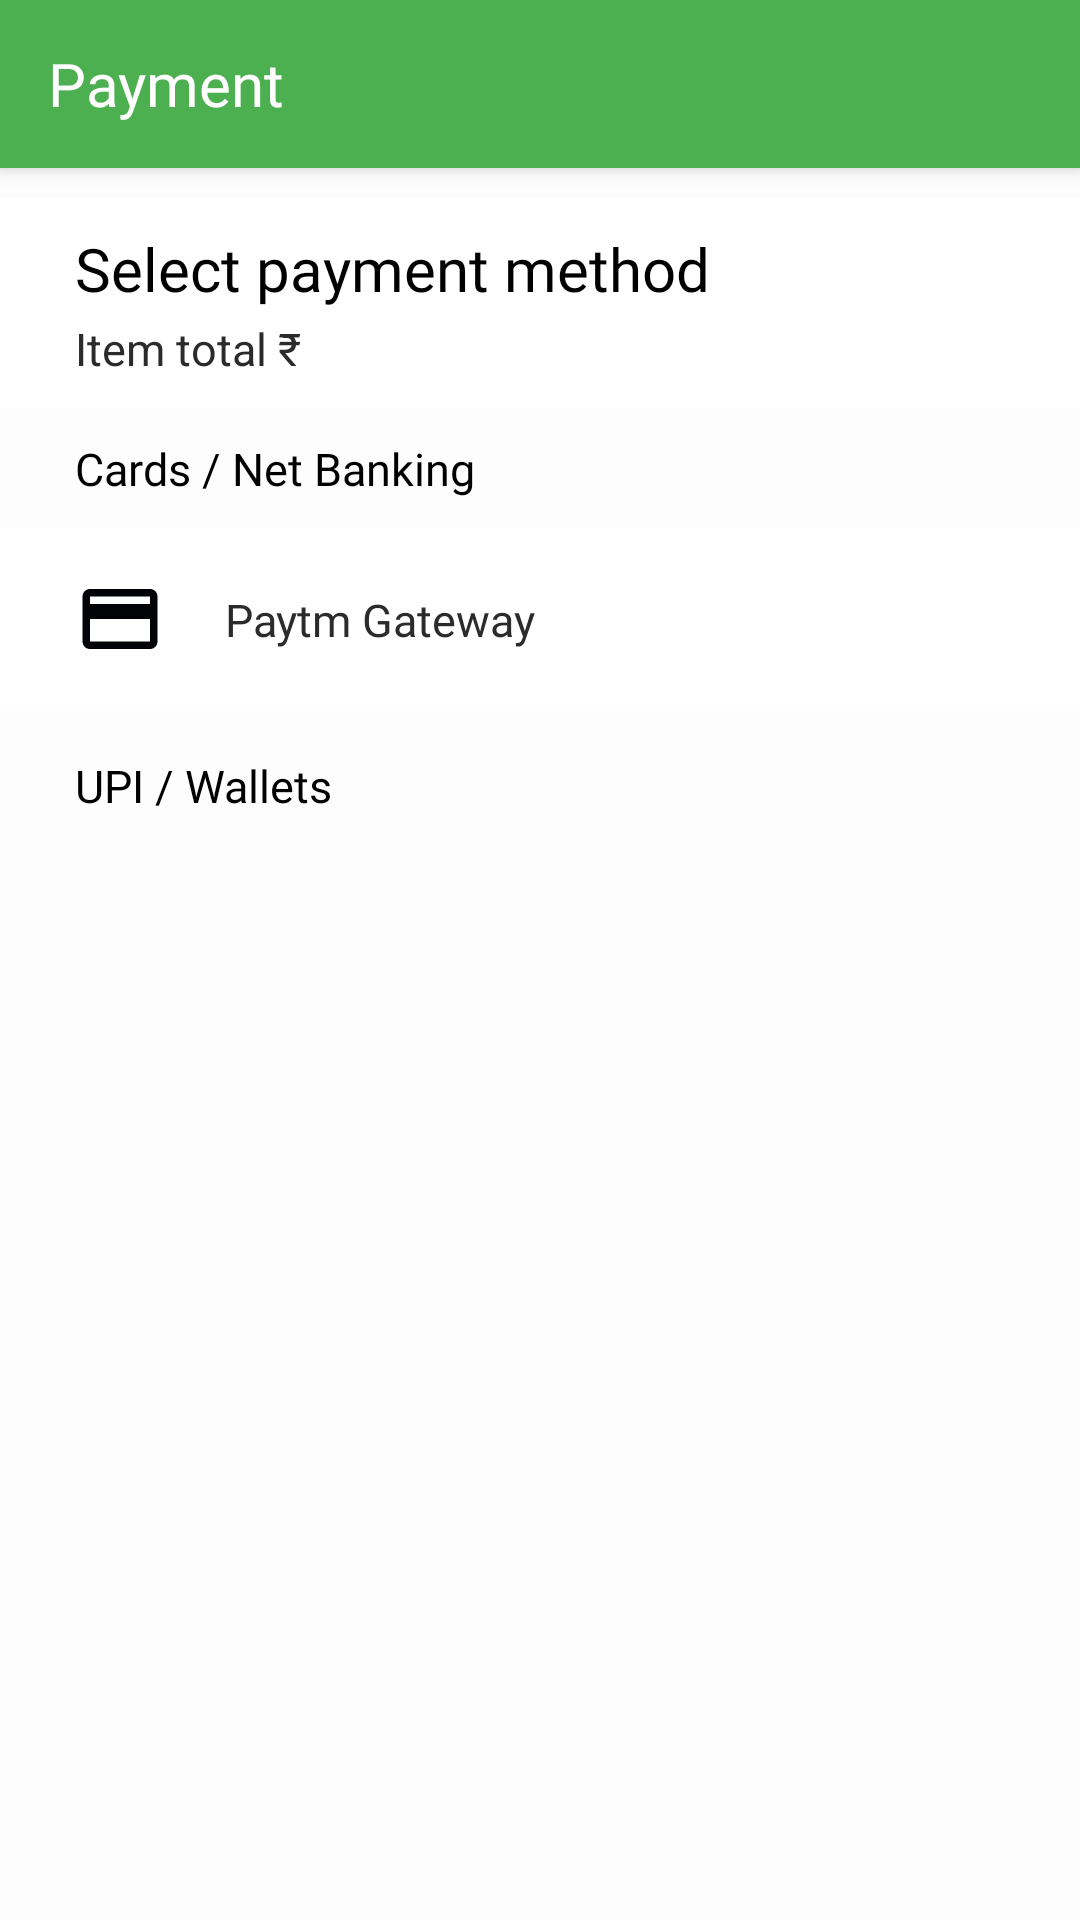

Screen size 1080x1920. Icon name, then its center in pixels as (x=x, y=y):
credit card: (x=120, y=619)
